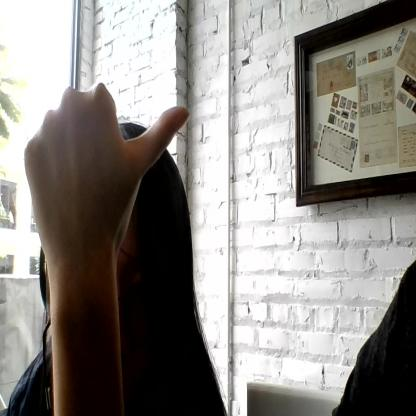left: (24, 83, 190, 221)
